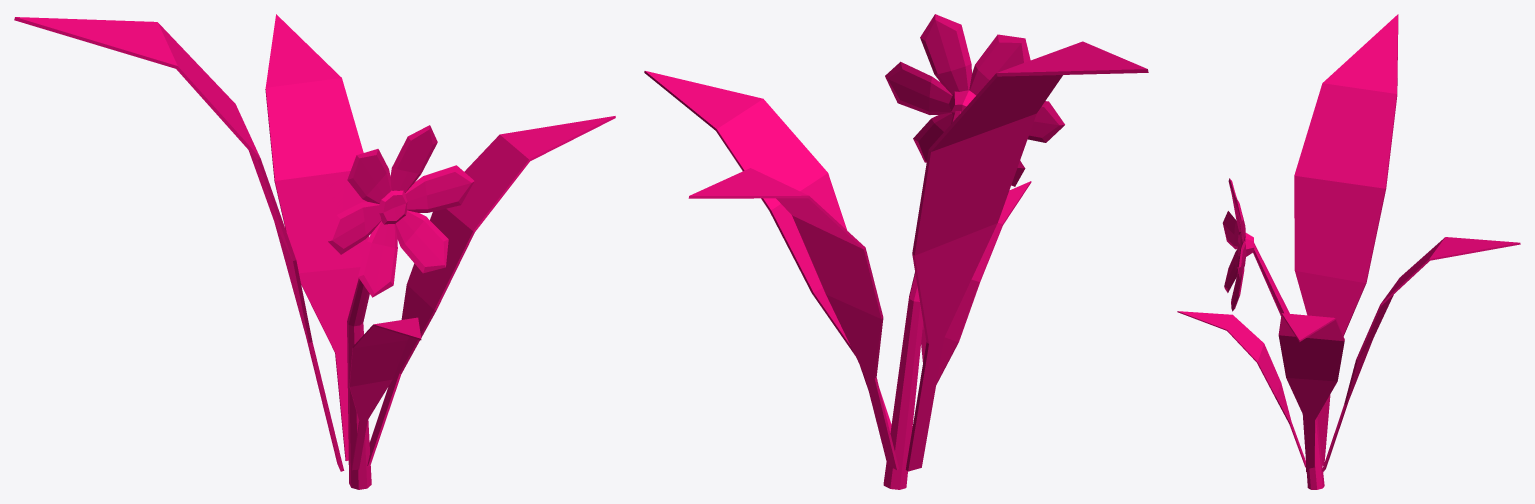
Rendered from SM_SS_Flower_1.fbx.
The picture shows the model from 3 angles, left to right: view 1: azimuth 30°, elevation 25°; view 2: azimuth 150°, elevation 25°; view 3: azimuth 270°, elevation 25°; orthographic projection. The views are drawn at different scales.
Visible parts, largest first — view 1: SM_SS_Flower_1; view 2: SM_SS_Flower_1; view 3: SM_SS_Flower_1.
Part boxes in pixels (left/top/right/bottom): SM_SS_Flower_1: left=14, top=14, right=615, bottom=489; SM_SS_Flower_1: left=644, top=14, right=1148, bottom=489; SM_SS_Flower_1: left=1177, top=14, right=1520, bottom=489.
Size of the model in its own units: 39.17 by 29.4 by 34.88.
